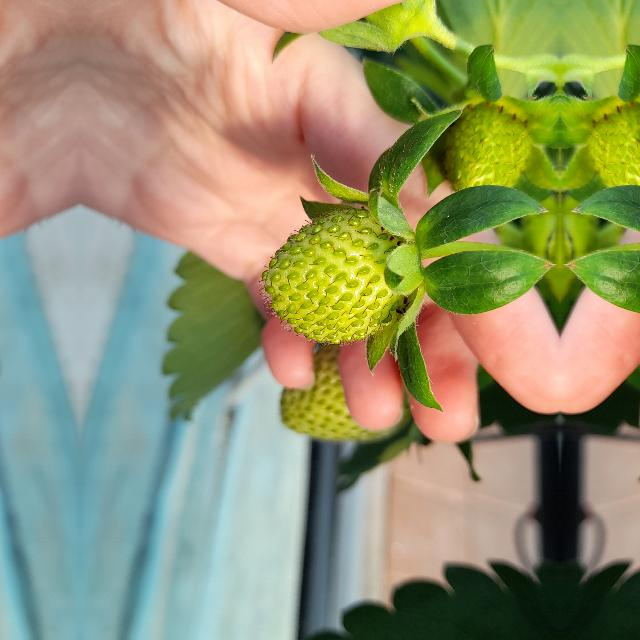Health_25: (260, 207, 408, 345), (438, 103, 534, 199), (586, 103, 640, 199)
